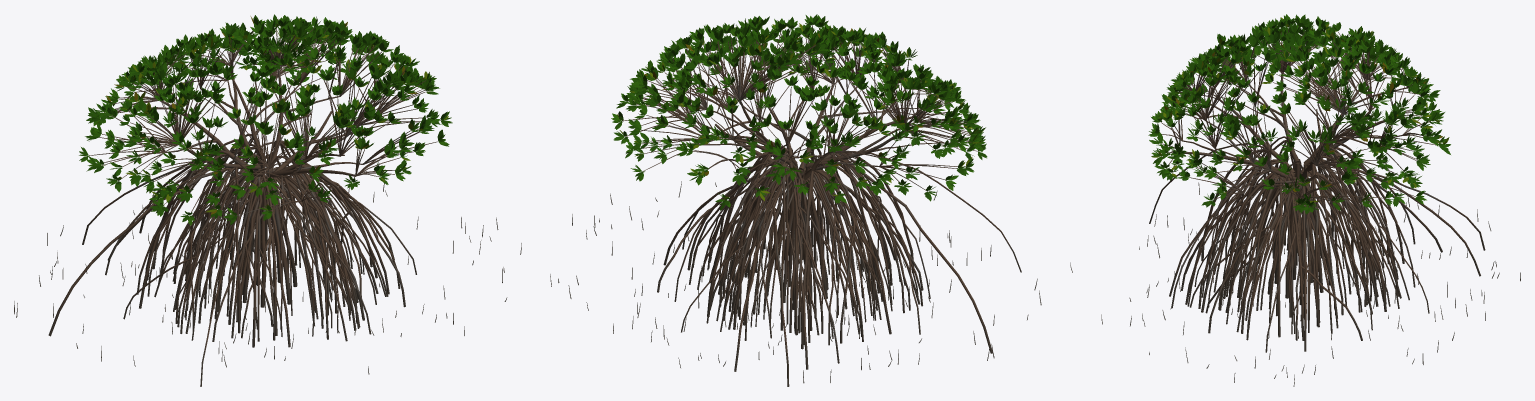
File: RedMangrove_03_Large.fbx
3 views of the same model, side by side, from view 1: azimuth 30°, elevation 25°; view 2: azimuth 150°, elevation 25°; view 3: azimuth 270°, elevation 25° (orthographic). The views are drawn at different scales.
Visible parts, largest first — view 1: RedMangrove_03_Large_LOD0; view 2: RedMangrove_03_Large_LOD0; view 3: RedMangrove_03_Large_LOD0.
Boxes of the visible parts, <box> form: RedMangrove_03_Large_LOD0: <box>14,14,521,386</box>; RedMangrove_03_Large_LOD0: <box>550,14,1041,386</box>; RedMangrove_03_Large_LOD0: <box>1070,14,1520,386</box>.
Size of what is drawn, in the model's own units: 8.79 by 4.83 by 7.96.
